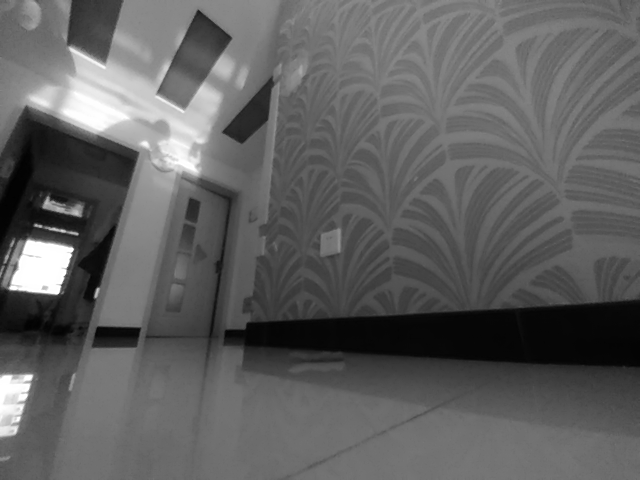pet feces: (292, 349, 348, 365)
